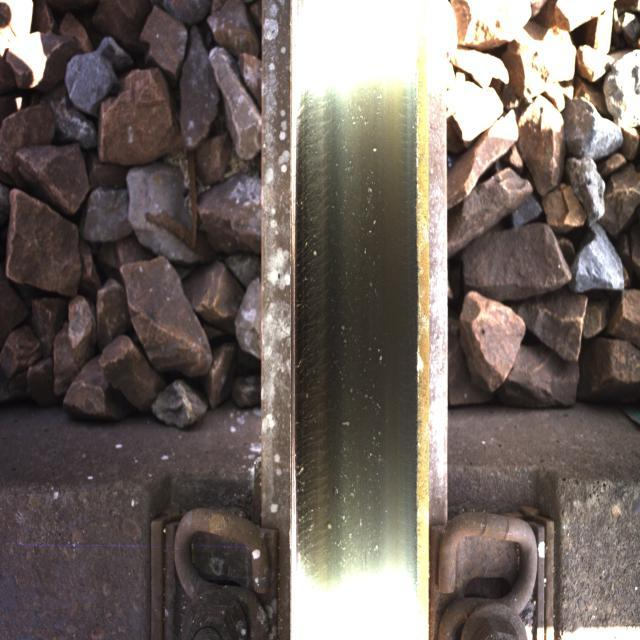normal: (303, 68, 402, 580)
